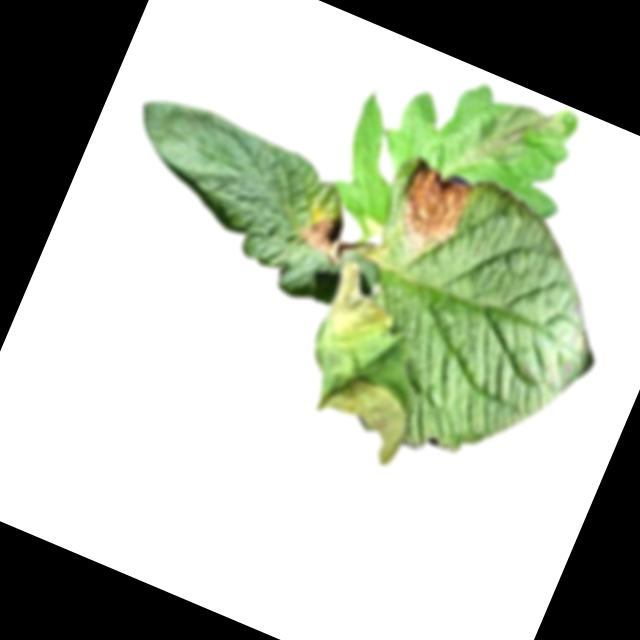Late_blight: (465, 80, 574, 194), (310, 365, 421, 470), (380, 156, 476, 265), (313, 256, 409, 362), (293, 208, 353, 267)
